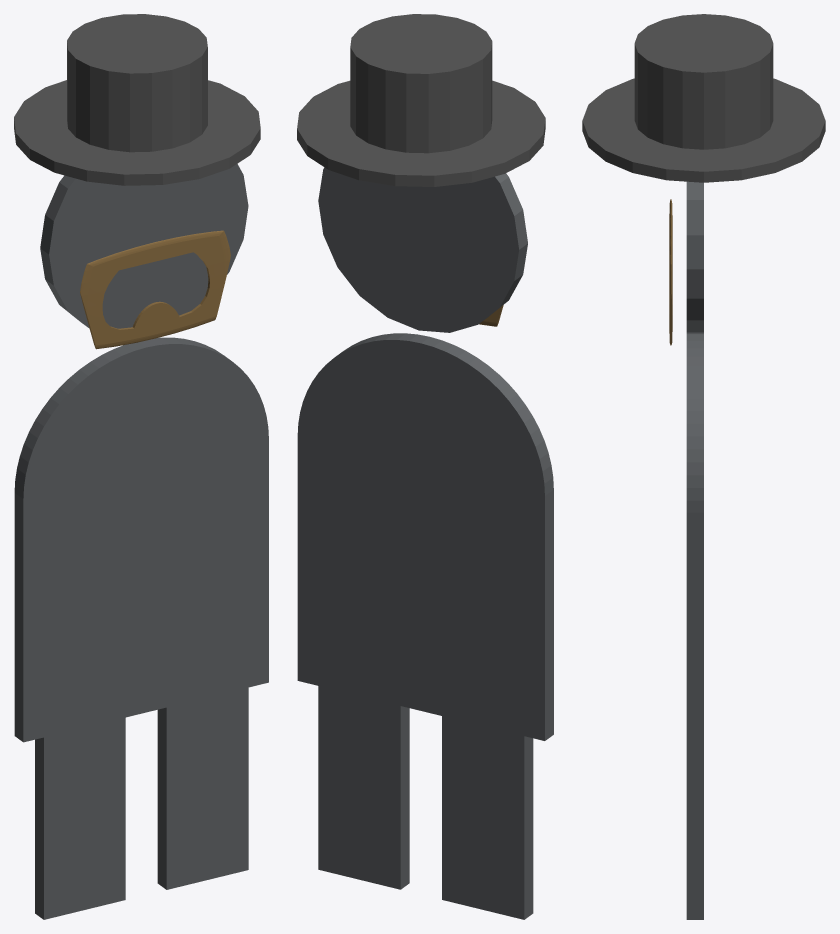
Rendered from cientifico7.glb.
3 renders of one model, left to right at view 1: azimuth 30°, elevation 25°; view 2: azimuth 150°, elevation 25°; view 3: azimuth 270°, elevation 25°, orthographic. The views are drawn at different scales.
Parts seen in each view (by area): view 1: Mesh_Mesh_head_geo.001_lambert2SG.001; view 2: Mesh_Mesh_head_geo.001_lambert2SG.001; view 3: Mesh_Mesh_head_geo.001_lambert2SG.001.
Part boxes in pixels (x1=…): Mesh_Mesh_head_geo.001_lambert2SG.001: x1=14, y1=14, x2=268, y2=919; Mesh_Mesh_head_geo.001_lambert2SG.001: x1=297, y1=14, x2=553, y2=919; Mesh_Mesh_head_geo.001_lambert2SG.001: x1=582, y1=14, x2=825, y2=919.
Size of the model in its own units: 16 by 52.6 by 14.
